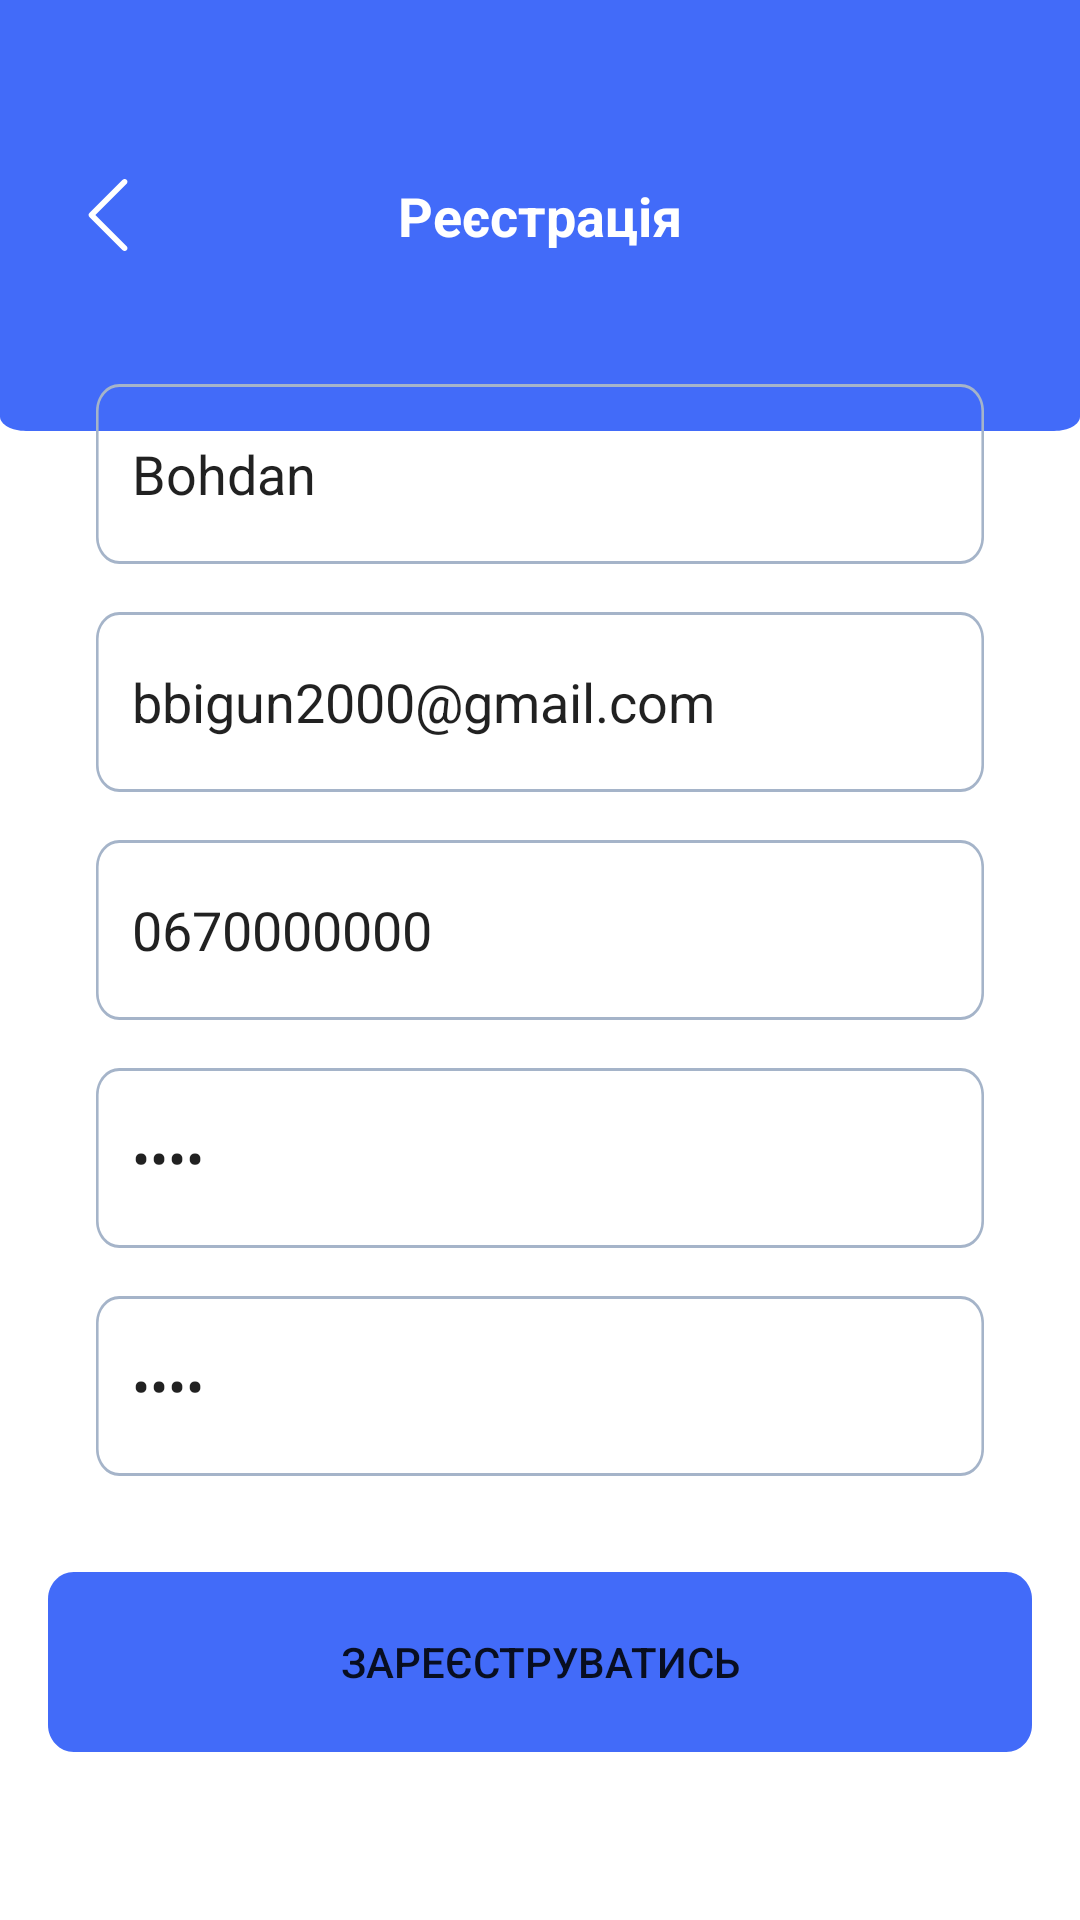

Screen size 1080x1920. Icon name, then its center in pixels as [x,y]:
back: [108,215]
